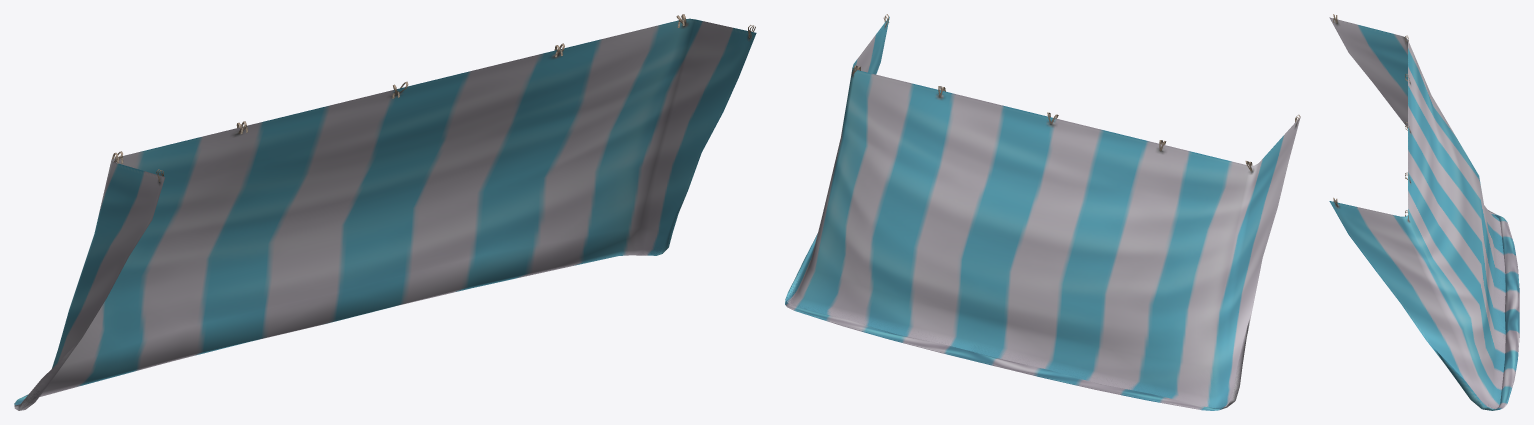
Rendered from jsf_BackSide_s04_c02_t02.fbx.
3 renders of one model, left to right at view 1: azimuth 30°, elevation 25°; view 2: azimuth 150°, elevation 25°; view 3: azimuth 270°, elevation 25°, orthographic. The views are drawn at different scales.
Visible parts, largest first — view 1: jsf_BackSide_s04_c02_t02; view 2: jsf_BackSide_s04_c02_t02; view 3: jsf_BackSide_s04_c02_t02.
Part boxes in pixels (left/top/right/bottom): jsf_BackSide_s04_c02_t02: left=14, top=14, right=756, bottom=410; jsf_BackSide_s04_c02_t02: left=785, top=14, right=1300, bottom=410; jsf_BackSide_s04_c02_t02: left=1329, top=14, right=1519, bottom=410.
Size of the model in its own units: 425 by 205 by 171.
